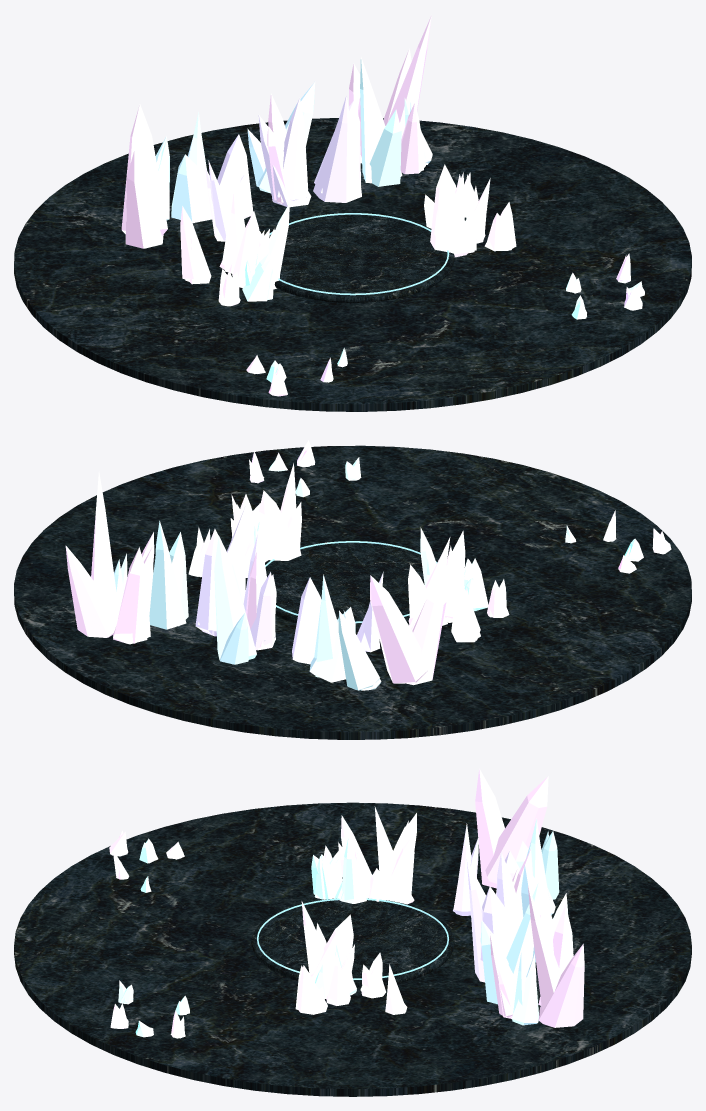
Rendered from crystal_stage_v4.glb.
3 renders of one model, top to bottom at view 1: azimuth 30°, elevation 25°; view 2: azimuth 150°, elevation 25°; view 3: azimuth 270°, elevation 25°, orthographic.
Visible parts, largest first — view 1: Cylinder, Cylinder.001, crystal.020, crystal.004, crystal.005, crystal, crystal.019, crystal.002, crystal.003, crystal.012, crystal.023, crystal.024 (+16 smaller); view 2: Cylinder, Cylinder.001, crystal.005, crystal.022, crystal.026, crystal.002, crystal.004, crystal.023, crystal.016, crystal.073, crystal.009, crystal.012 (+15 smaller); view 3: Cylinder, Cylinder.001, crystal.005, crystal.022, crystal.004, crystal.023, crystal.021, crystal.020, crystal.002, crystal.024, crystal.072, crystal.073 (+15 smaller).
Boxes of the visible parts, x1,y1,x2,y2 form: Cylinder: (14, 118, 691, 411); Cylinder.001: (264, 213, 454, 302); crystal.020: (313, 95, 361, 202); crystal.004: (125, 151, 163, 248); crystal.005: (121, 104, 167, 235); crystal: (276, 97, 308, 200); crystal.019: (171, 154, 211, 222); crystal.002: (360, 57, 402, 183); crystal.003: (363, 109, 401, 186); crystal.012: (217, 134, 252, 217); crystal.023: (386, 15, 431, 138); crystal.024: (400, 103, 425, 174); Cylinder: (14, 445, 691, 739); Cylinder.001: (265, 541, 437, 630); crystal.005: (370, 575, 428, 683); crystal.022: (65, 545, 118, 637); crystal.026: (214, 535, 256, 660); crystal.002: (149, 520, 186, 629); crystal.004: (406, 572, 446, 685); crystal.023: (91, 471, 119, 619); crystal.016: (113, 547, 150, 643); crystal.073: (259, 490, 301, 560); crystal.009: (338, 610, 379, 690); crystal.012: (292, 577, 321, 664); Cylinder: (14, 802, 691, 1096); Cylinder.001: (251, 898, 454, 987); crystal.005: (485, 776, 548, 883); crystal.022: (538, 943, 584, 1027); crystal.004: (475, 768, 504, 888); crystal.023: (528, 886, 561, 1010); crystal.021: (480, 886, 514, 960); crystal.020: (466, 858, 485, 982); crystal.002: (506, 883, 538, 980); crystal.024: (490, 934, 516, 1017); crystal.072: (374, 806, 411, 903); crystal.073: (310, 914, 353, 979).
Size of the model in its own units: 16 by 4.49 by 16.
Materials: 15 (3 with a texture image).
